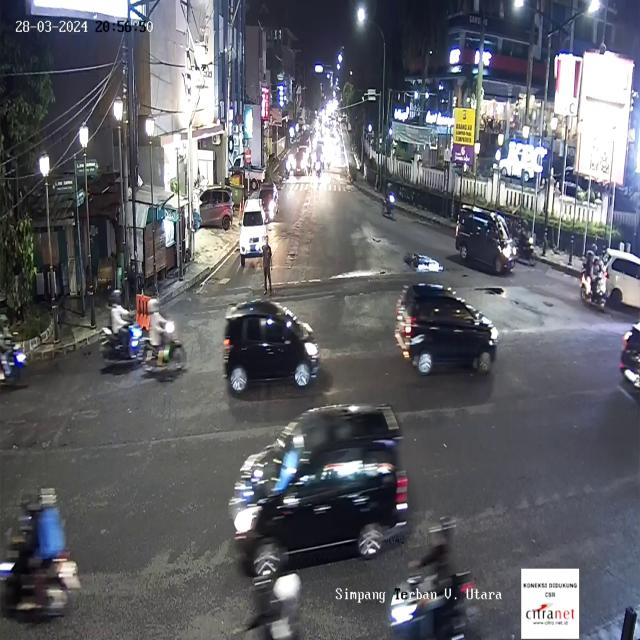car: (227, 402, 409, 580), (223, 301, 324, 395), (396, 289, 500, 377), (456, 207, 518, 275), (601, 249, 639, 316), (241, 196, 270, 262), (199, 186, 237, 230), (620, 319, 640, 391), (258, 179, 278, 220)
motorcycle: (383, 511, 491, 640), (4, 490, 80, 618), (99, 282, 139, 368), (143, 296, 180, 378), (581, 253, 603, 315), (514, 220, 538, 271), (382, 181, 397, 218)
